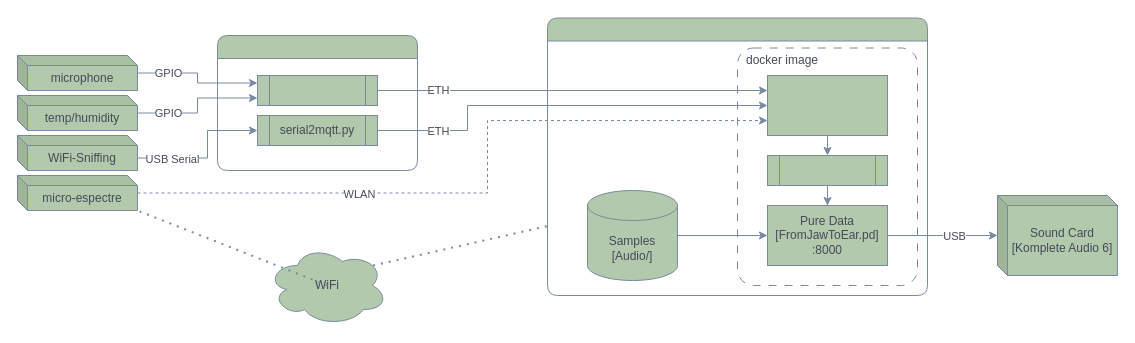
The diagram is 1135 pixels wide and 343 high, and some of its shapes have lost their labels. The box of each missing label's shape, as (x1, y1, x2, y2) in pixels:
Computer [arran-ubuntu]: (546, 17, 928, 296)
MQTT Server :1883: (766, 74, 888, 136)
mqtt2osc.py: (766, 154, 888, 186)
Raspberry Pi: (216, 34, 418, 170)
read_sensors.py: (256, 74, 378, 106)
